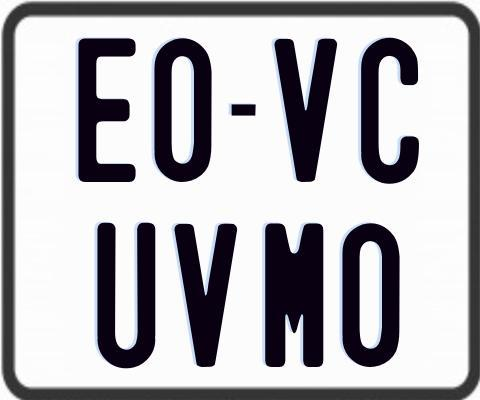0: (339, 223, 401, 369), (152, 38, 210, 188)
C: (360, 38, 419, 190)
E: (75, 38, 134, 185)
M: (262, 221, 321, 367)
U: (95, 222, 159, 370)
V: (271, 38, 340, 181), (174, 224, 241, 371)
